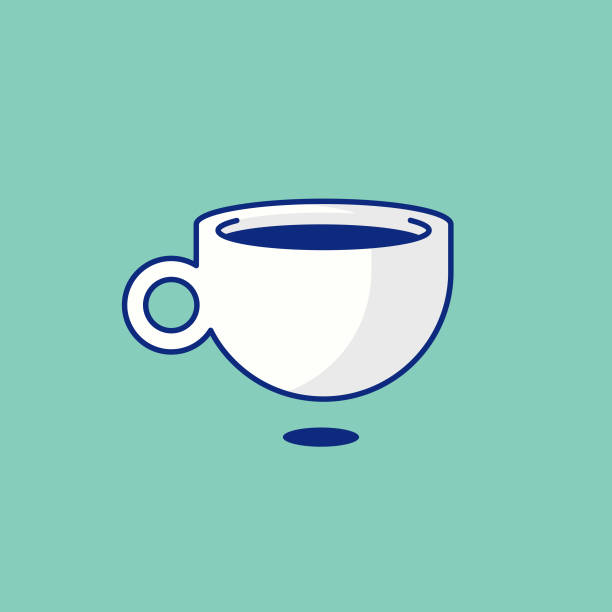cup: (19, 21, 586, 612)
